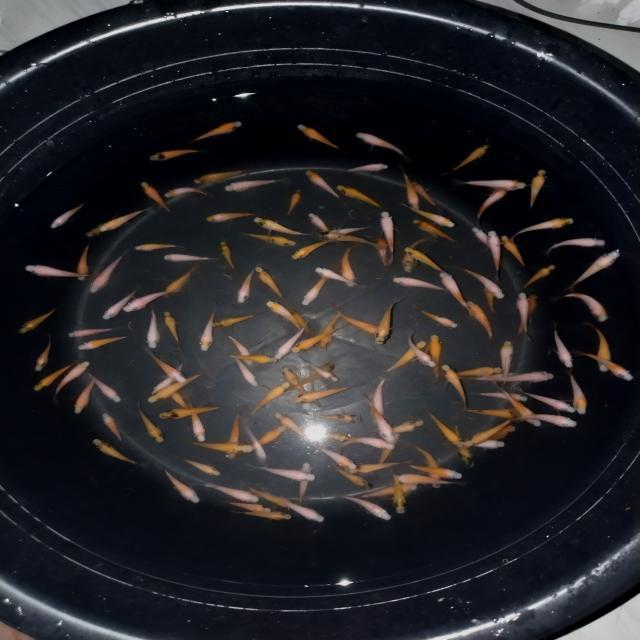nila: (158, 392, 250, 426), (330, 302, 388, 341), (143, 371, 204, 407), (567, 250, 621, 290), (498, 384, 546, 428), (574, 348, 636, 382), (86, 250, 132, 294), (48, 358, 92, 404), (90, 437, 150, 470), (550, 293, 613, 324), (351, 130, 412, 162), (412, 441, 449, 493), (292, 381, 366, 407), (452, 416, 512, 448), (438, 142, 494, 176), (290, 324, 349, 355), (458, 263, 506, 300), (371, 418, 430, 448), (382, 338, 428, 376), (340, 492, 394, 524), (518, 388, 579, 416), (162, 464, 202, 506), (582, 322, 613, 376), (511, 216, 575, 242), (142, 350, 188, 386), (296, 121, 344, 155), (15, 304, 66, 336), (366, 397, 396, 451), (404, 200, 458, 230), (252, 462, 316, 487), (274, 412, 316, 450), (470, 185, 508, 227), (248, 380, 292, 416), (264, 299, 304, 338), (98, 205, 150, 235), (220, 408, 249, 461), (409, 217, 462, 246), (47, 198, 92, 232), (274, 322, 312, 362), (30, 360, 77, 392), (438, 361, 468, 411), (121, 288, 176, 315), (22, 262, 96, 282), (99, 287, 141, 322), (448, 426, 481, 470), (370, 298, 400, 346), (426, 407, 462, 447), (509, 410, 581, 430), (304, 167, 344, 203), (191, 118, 246, 144), (280, 494, 327, 524), (135, 402, 167, 446), (164, 261, 204, 296), (334, 182, 387, 208), (300, 266, 334, 306), (488, 368, 556, 388), (310, 228, 378, 248), (317, 307, 347, 352), (548, 320, 575, 370), (403, 332, 439, 369), (314, 266, 369, 290), (502, 232, 532, 276), (441, 270, 471, 314), (251, 214, 308, 237), (354, 483, 416, 504), (330, 464, 380, 490), (494, 338, 520, 388), (254, 264, 288, 302), (288, 234, 334, 262), (546, 236, 610, 256), (138, 179, 174, 214), (150, 360, 184, 397), (566, 370, 592, 418), (294, 360, 337, 389), (189, 165, 248, 186), (220, 177, 288, 195), (287, 306, 320, 343), (466, 300, 496, 340), (405, 243, 445, 273), (526, 167, 552, 213), (222, 332, 255, 368), (228, 352, 260, 389), (398, 237, 429, 275), (72, 375, 100, 417), (391, 472, 469, 487), (333, 436, 398, 454), (204, 482, 259, 503), (367, 376, 390, 426), (318, 447, 356, 477), (514, 294, 539, 339), (406, 462, 468, 480), (418, 308, 466, 331), (399, 166, 422, 214), (146, 144, 204, 163), (184, 439, 257, 454), (519, 262, 557, 290), (197, 310, 220, 356), (388, 473, 412, 517), (88, 372, 121, 404), (280, 366, 309, 402), (392, 276, 444, 296), (453, 178, 527, 192), (426, 331, 444, 388), (348, 458, 412, 474), (458, 406, 530, 420), (471, 388, 530, 405), (142, 307, 164, 352), (201, 208, 256, 226), (76, 334, 130, 352), (295, 462, 317, 506), (252, 425, 289, 451), (224, 350, 284, 366), (161, 308, 185, 348), (222, 498, 278, 515), (239, 231, 295, 248), (467, 370, 526, 386), (376, 432, 402, 468), (381, 204, 396, 266), (188, 400, 208, 446), (64, 324, 118, 341), (304, 360, 342, 384), (249, 486, 290, 508), (444, 364, 504, 379), (338, 245, 357, 292), (517, 291, 534, 343), (487, 228, 504, 280), (241, 508, 296, 524), (235, 268, 258, 306), (100, 410, 125, 444), (410, 177, 437, 208), (212, 312, 262, 328), (74, 241, 94, 281), (34, 336, 54, 376), (186, 457, 223, 478), (303, 412, 366, 424), (458, 436, 511, 450), (482, 274, 499, 316), (374, 234, 391, 274), (168, 387, 194, 412), (162, 252, 216, 264), (219, 240, 239, 272), (341, 161, 390, 174), (161, 186, 213, 198), (485, 423, 518, 441), (131, 242, 188, 252), (469, 225, 492, 248), (286, 188, 304, 216), (328, 223, 371, 234), (306, 212, 328, 232), (85, 222, 111, 237), (327, 434, 360, 442)
